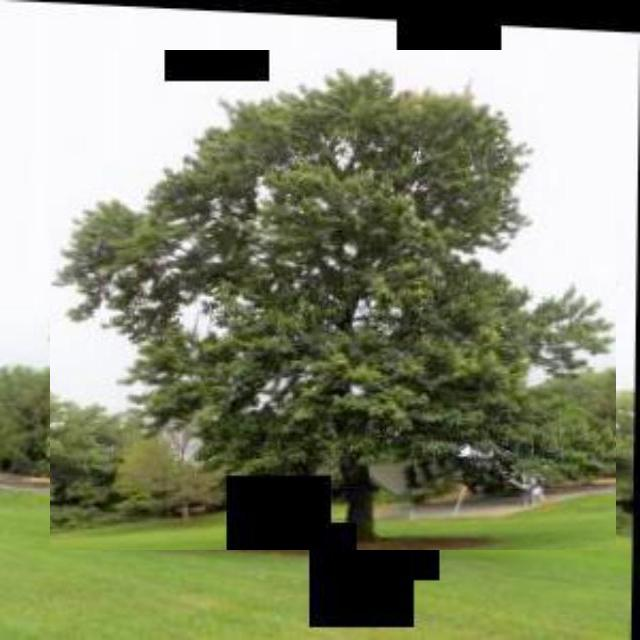tree: (50, 50, 616, 550)
